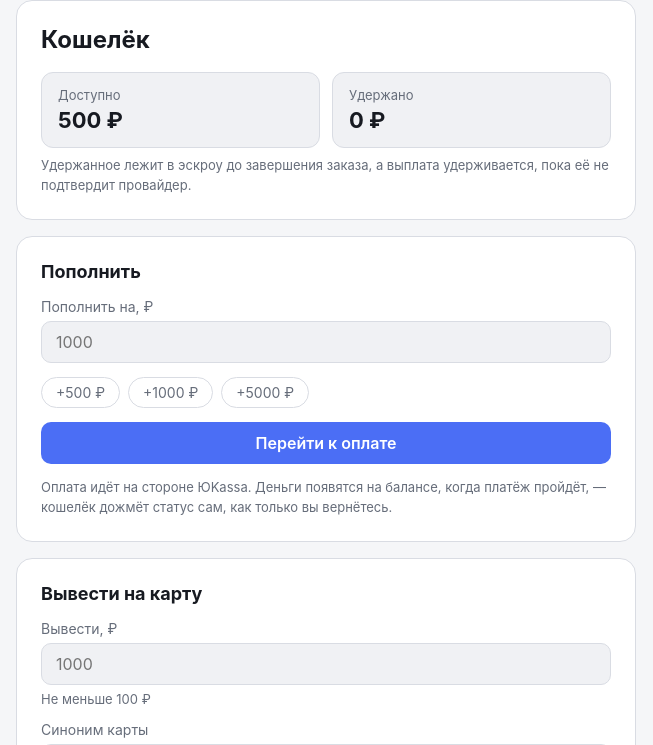
Test case: больше доступного вывести не даёт, не спрашивая бэкенд
Expected: the text "Доступно" is shown, [58,87,120,103]
In the field labelled "Вывести, ₽": (326, 664) [41,643,611,685], type "600"
(page scrolled)
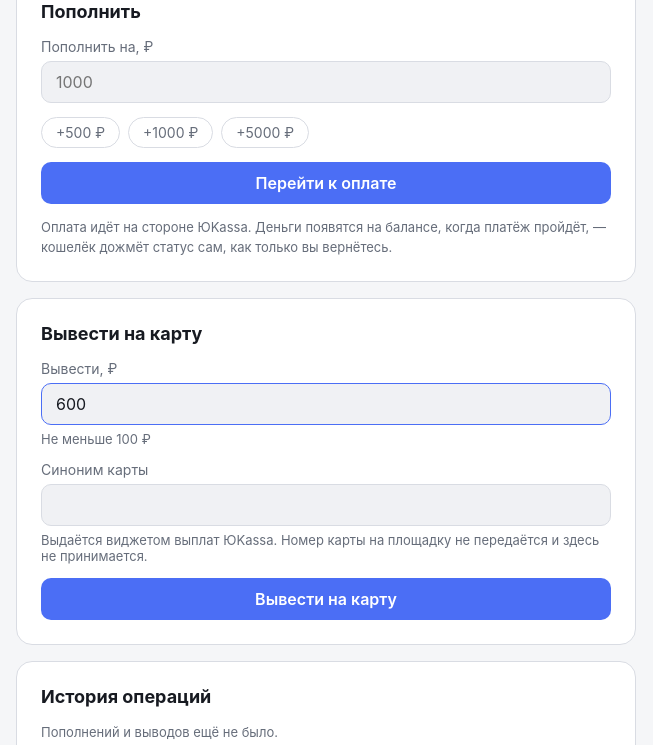
In the field labelled "Синоним карты": (326, 505) [41,484,611,526], type "card-synonym-1"
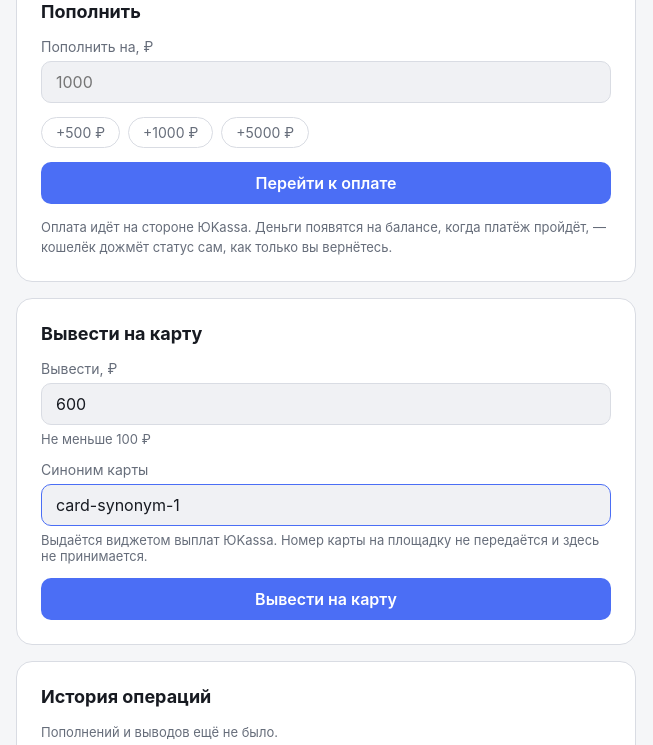
Click the button "Вывести на карту": (326, 599) [41,578,611,620]
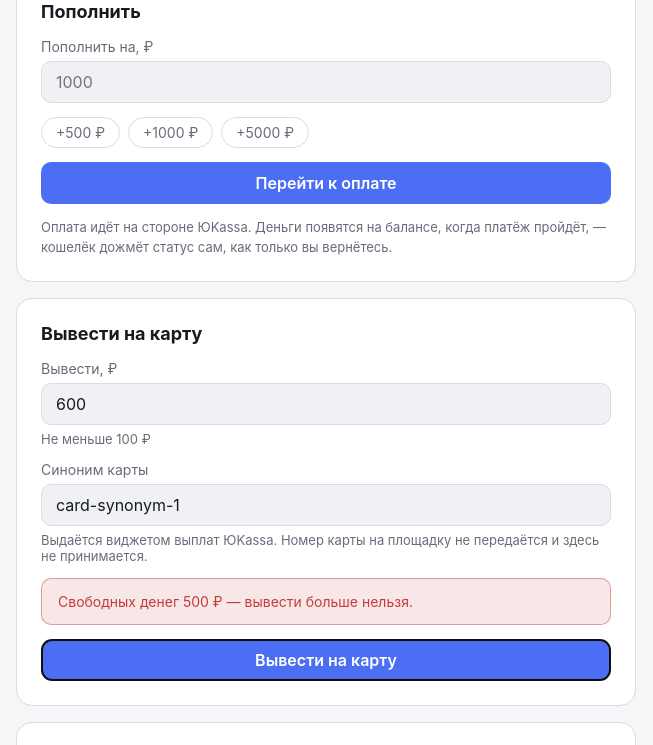
Expected: the message shows "вывести больше нельзя", [58,593,413,610]
